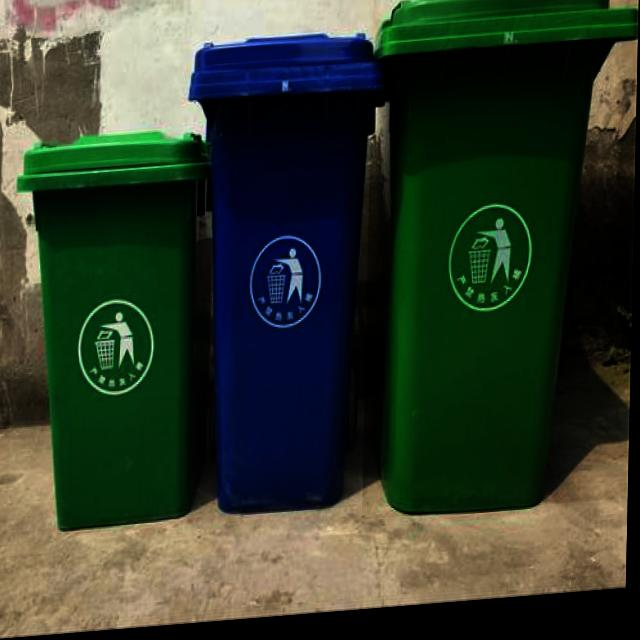garbage_bin: (364, 0, 638, 526), (180, 32, 383, 522), (10, 128, 213, 533)
